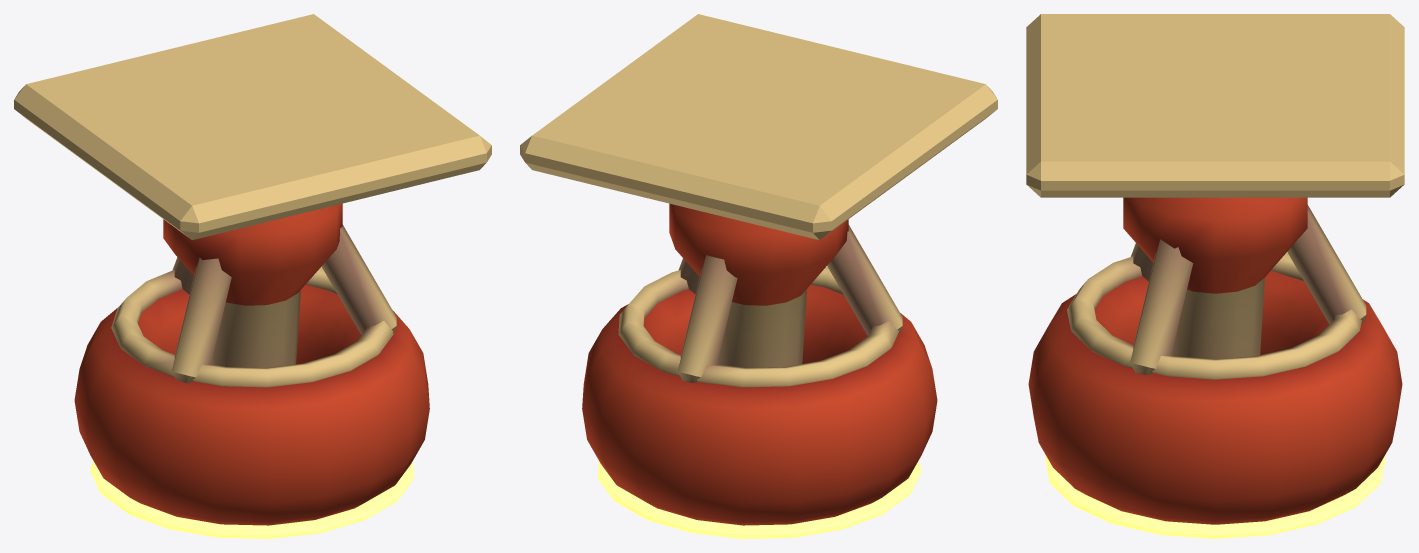
Rendered from R4M_HoverEngine_LOD1.fbx.
3 renders of one model, left to right at view 1: azimuth 30°, elevation 25°; view 2: azimuth 150°, elevation 25°; view 3: azimuth 270°, elevation 25°, orthographic. The views are drawn at different scales.
Visible parts, largest first — view 1: R4M_HoverEngine_LOD1; view 2: R4M_HoverEngine_LOD1; view 3: R4M_HoverEngine_LOD1.
Boxes of the visible parts, box(x1,y1,x2,y2) form: R4M_HoverEngine_LOD1: box(14, 14, 491, 538); R4M_HoverEngine_LOD1: box(520, 14, 997, 538); R4M_HoverEngine_LOD1: box(1026, 14, 1404, 538).
Size of the model in its own units: 0.52 by 0.577 by 0.52.
